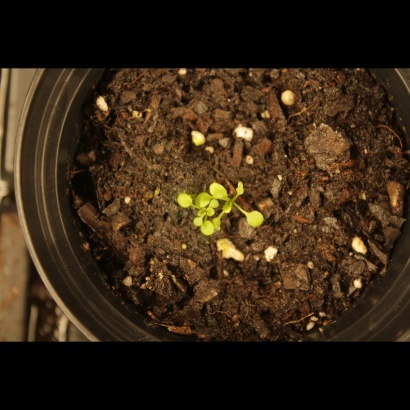leaf: (241, 210, 274, 236), (208, 178, 231, 201), (172, 188, 195, 211), (195, 221, 218, 244), (192, 186, 215, 209), (233, 179, 256, 202), (218, 201, 241, 224), (193, 204, 216, 227)
